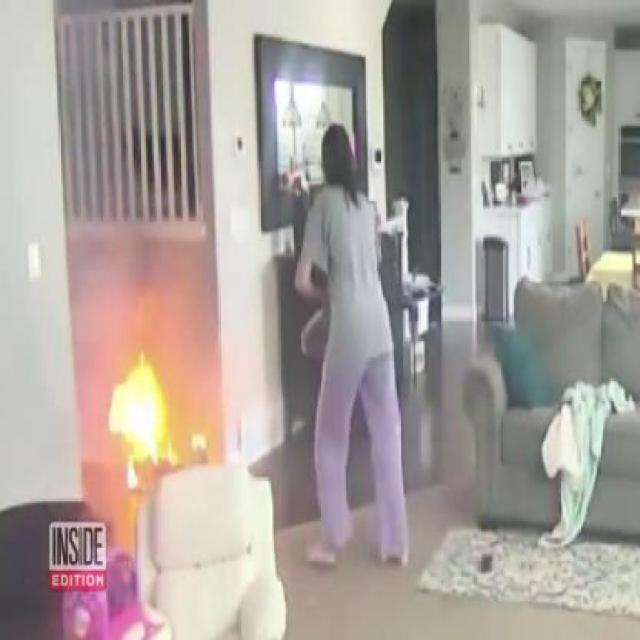fire: (109, 362, 183, 476)
smoke: (93, 244, 212, 334), (67, 366, 96, 464)
